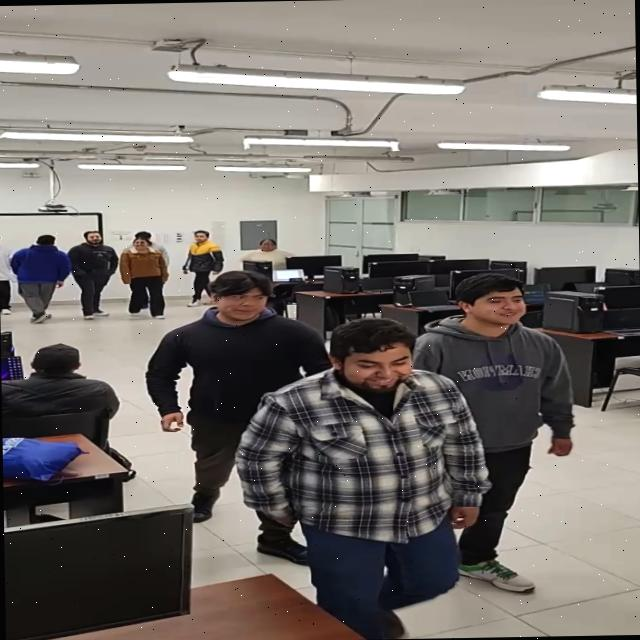Persona: (234, 314, 493, 640), (408, 270, 578, 596), (144, 267, 338, 526), (9, 233, 72, 324), (65, 230, 119, 320), (117, 236, 170, 320), (179, 228, 224, 308), (0, 232, 14, 314)
